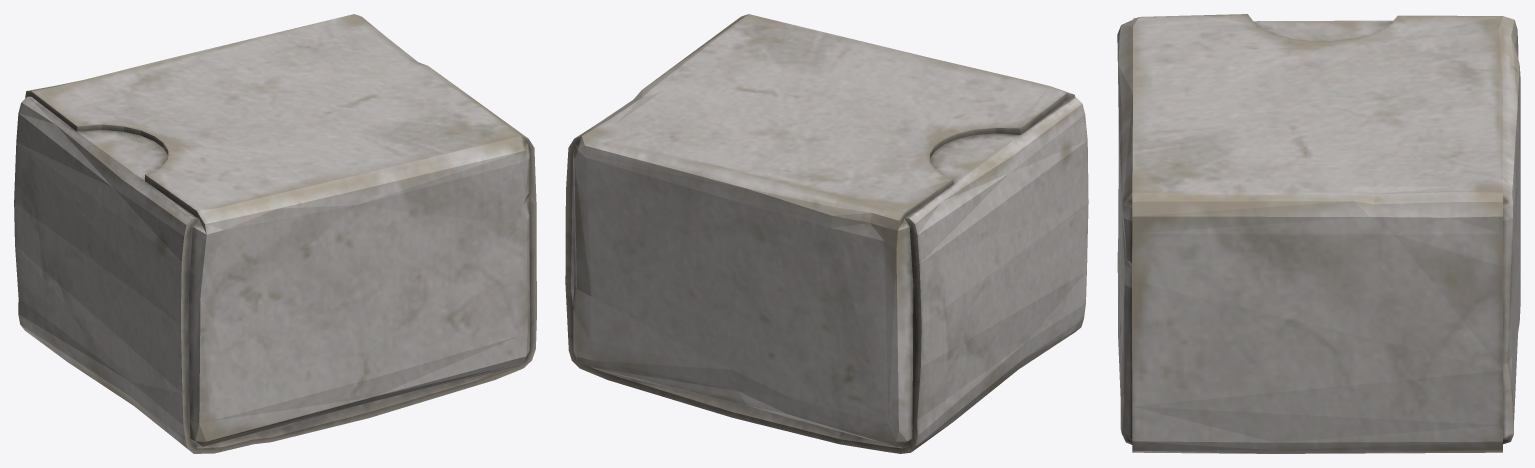
The picture shows the model from 3 angles, left to right: view 1: azimuth 30°, elevation 25°; view 2: azimuth 150°, elevation 25°; view 3: azimuth 270°, elevation 25°; orthographic projection. The views are drawn at different scales.
Parts seen in each view (by area): view 1: TW_6579847c5a0e5879d12f2873_PZ_Import; view 2: TW_6579847c5a0e5879d12f2873_PZ_Import; view 3: TW_6579847c5a0e5879d12f2873_PZ_Import.
Boxes of the visible parts, <box> form: TW_6579847c5a0e5879d12f2873_PZ_Import: <box>14,14,536,453</box>; TW_6579847c5a0e5879d12f2873_PZ_Import: <box>565,14,1088,453</box>; TW_6579847c5a0e5879d12f2873_PZ_Import: <box>1117,14,1520,453</box>.
Bounding box in the file's own units: 0.0409 × 0.0361 × 0.0272.
1 material, 1 textured.
